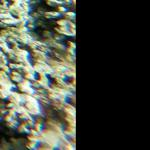alive: (2, 4, 74, 148)
